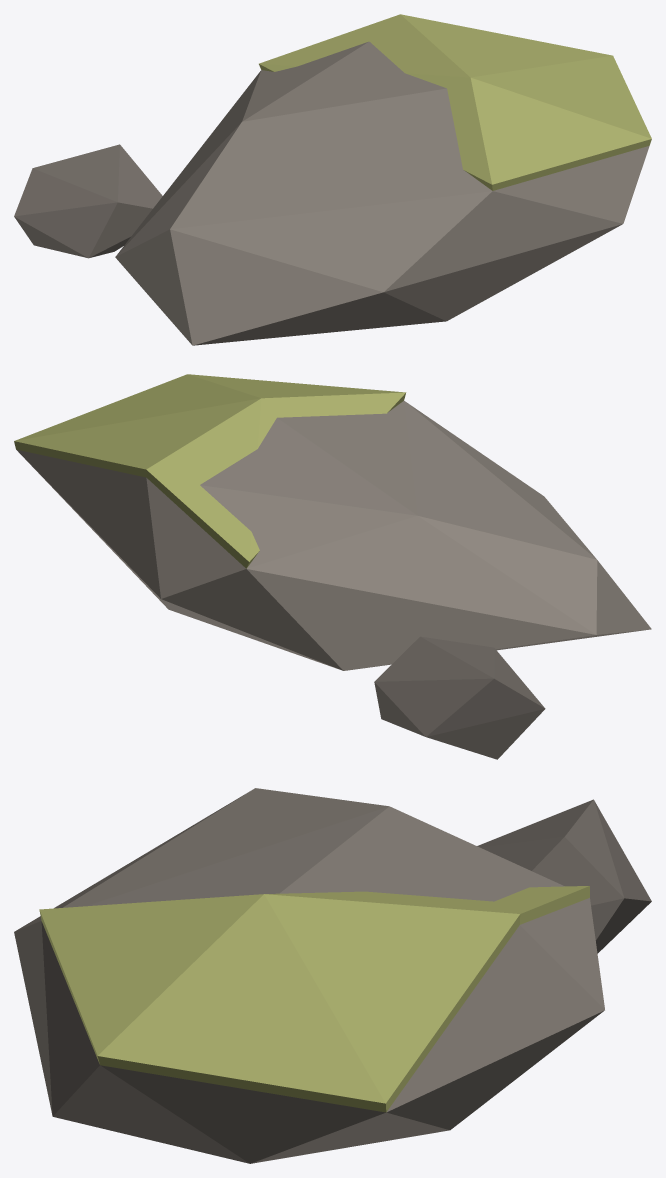
File: rocher_prairie_3.glb
3 views of the same model, one above another, from view 1: azimuth 30°, elevation 25°; view 2: azimuth 150°, elevation 25°; view 3: azimuth 270°, elevation 25° (orthographic). The views are drawn at different scales.
Parts seen in each view (by area): view 1: roche_pierre_claire.006, lichen_lichen.002, roche_pierre.012; view 2: roche_pierre_claire.006, lichen_lichen.002, roche_pierre.012; view 3: roche_pierre_claire.006, lichen_lichen.002, roche_pierre.012.
Part boxes in pixels (x1=…): roche_pierre_claire.006: x1=115, y1=41, x2=649, y2=345; lichen_lichen.002: x1=259, y1=14, x2=651, y2=190; roche_pierre.012: x1=14, y1=144, x2=162, y2=258; roche_pierre_claire.006: x1=16, y1=401, x2=651, y2=670; lichen_lichen.002: x1=14, y1=374, x2=406, y2=568; roche_pierre.012: x1=374, y1=636, x2=545, y2=759; roche_pierre_claire.006: x1=14, y1=788, x2=604, y2=1163; lichen_lichen.002: x1=39, y1=886, x2=589, y2=1112; roche_pierre.012: x1=477, y1=799, x2=651, y2=953.
Bounding box in the file's own units: 0.958 × 0.2859 × 0.6682.
